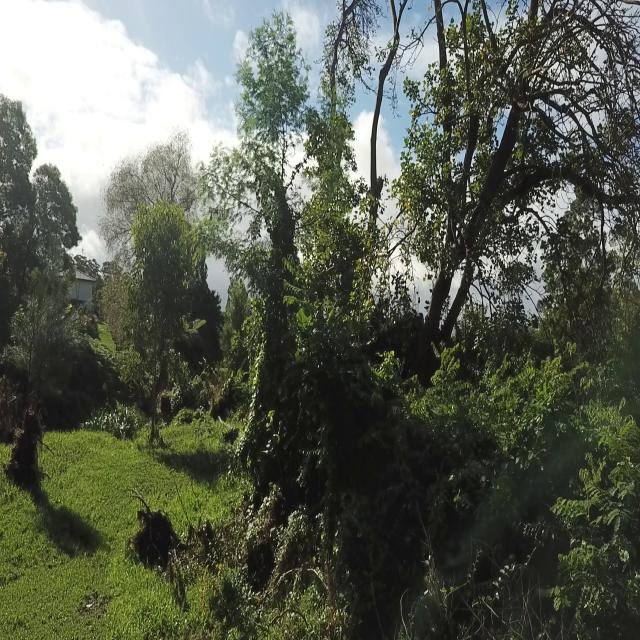Mysore-Thorn-Weed: (555, 454, 640, 640), (365, 347, 421, 421), (486, 350, 525, 443), (426, 338, 464, 427), (602, 403, 640, 487), (562, 339, 591, 428)
